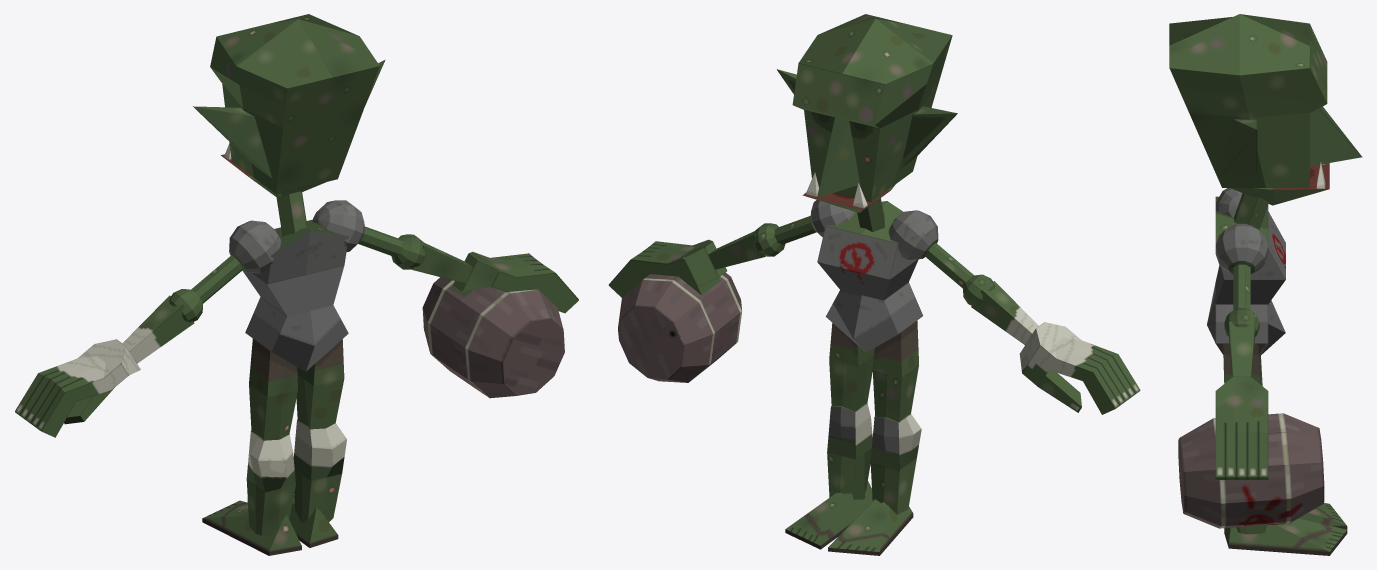
File: goblin.fbx
3 renders of one model, left to right at view 1: azimuth 30°, elevation 25°; view 2: azimuth 150°, elevation 25°; view 3: azimuth 270°, elevation 25°, orthographic. The views are drawn at different scales.
Visible parts, largest first — view 1: skull, bomb, Torso, hand_l, shin_r, shin_l, thigh_l, hand_r, thigh_r, foot_l, ear_l, forearm_l (+9 smaller); view 2: skull, bomb, Torso, hand_l, shin_l, shin_r, hand_r, thigh_l, thigh_r, foot_l, foot_r, nose (+9 smaller); view 3: skull, bomb, hand_r, Torso, foot_r, shoulder_r, nose, ear_r, forearm_r, lower_jaw, neck, bicep_r (+4 smaller).
Part boxes in pixels (x1,y1,x2,y2): skull: [210, 14, 379, 194]; bomb: [422, 271, 564, 398]; Torso: [242, 219, 348, 371]; hand_l: [15, 339, 140, 437]; shin_r: [293, 419, 346, 522]; shin_l: [246, 431, 295, 536]; thigh_l: [249, 338, 298, 440]; hand_r: [451, 252, 578, 313]; thigh_r: [296, 339, 344, 429]; foot_l: [202, 500, 301, 555]; ear_l: [193, 106, 272, 178]; forearm_l: [122, 295, 194, 363]; skull: [792, 14, 952, 201]; bomb: [618, 257, 741, 382]; Torso: [817, 201, 922, 352]; hand_l: [1019, 322, 1140, 414]; shin_l: [870, 414, 921, 514]; shin_r: [827, 403, 872, 499]; hand_r: [608, 239, 726, 297]; thigh_l: [872, 321, 918, 422]; thigh_r: [829, 323, 874, 411]; foot_l: [828, 499, 913, 555]; foot_r: [785, 481, 872, 549]; nose: [817, 117, 859, 198]; skull: [1169, 14, 1327, 187]; bomb: [1178, 413, 1324, 528]; hand_r: [1215, 376, 1268, 479]; Torso: [1207, 211, 1285, 356]; foot_r: [1224, 518, 1347, 555]; shoulder_r: [1215, 223, 1268, 274]; nose: [1310, 106, 1362, 166]; ear_r: [1222, 119, 1257, 175]; forearm_r: [1228, 321, 1254, 377]; lower_jaw: [1231, 163, 1329, 205]; neck: [1233, 193, 1268, 229]; bicep_r: [1233, 264, 1250, 310].
Size of the model in its own units: 219 by 203 by 68.75.
2 materials, 2 textured.
